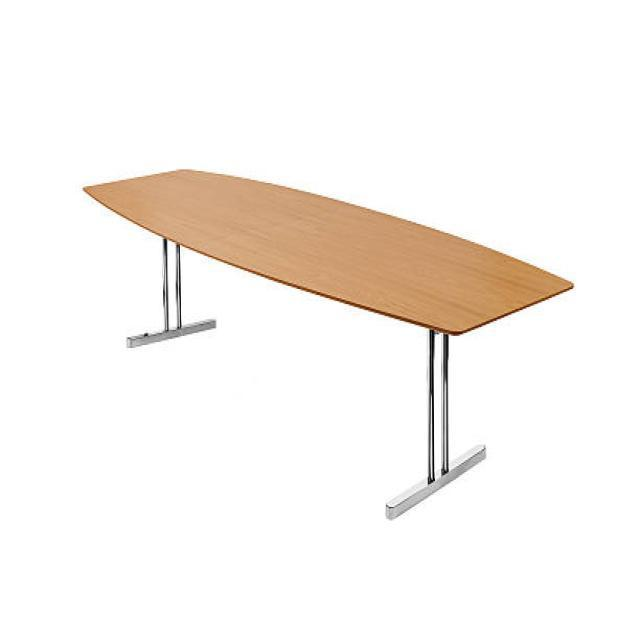table: (81, 165, 574, 519)
